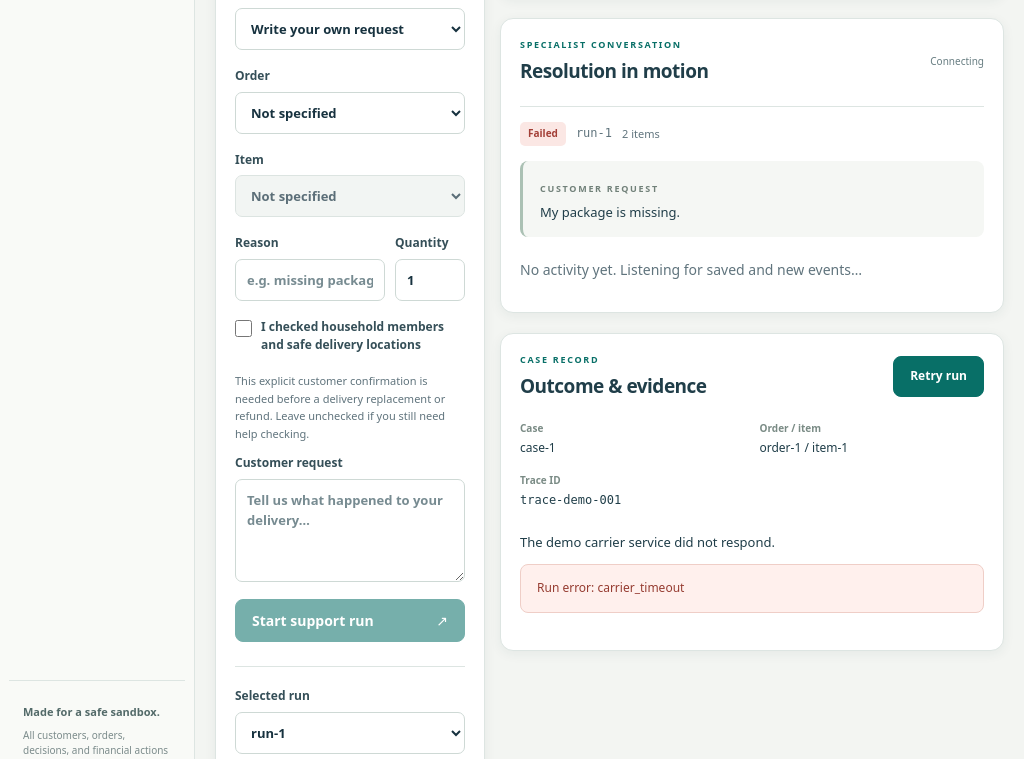
it: retries a failed run as a linked run and explicitly cancels the new attempt
The image size is (1024, 759).
(page scrolled)
Expected: the message "Run error: carrier_timeout" is shown, [520,564,984,613]
What coordinates should you click on to do the following:
click the button "Retry run"
I would click on:
 (939, 376)
Its box is [893,356,984,397].
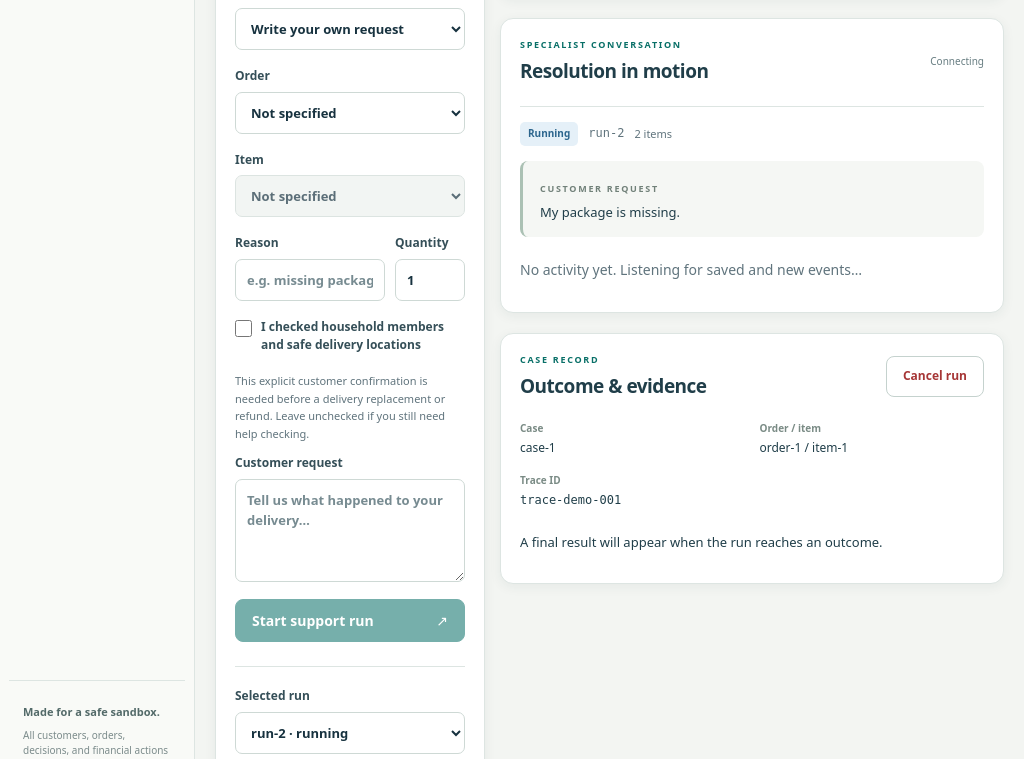
Expected: the button "Cancel run" is shown
What coordinates should you click on to do the following:
click the button "Cancel run"
I would click on:
 (935, 376)
Its box is [886,356,984,397].
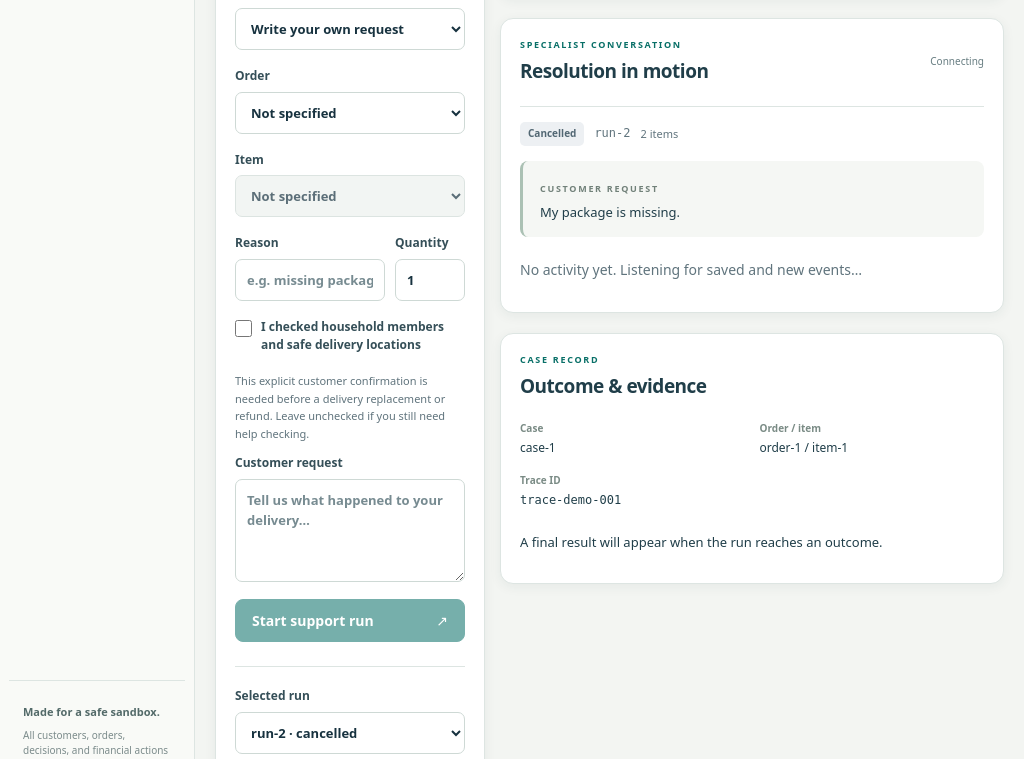
Expected: the text "cancelled" is shown, [520,122,584,146]
Expected: the button "Cancel run" is gone
